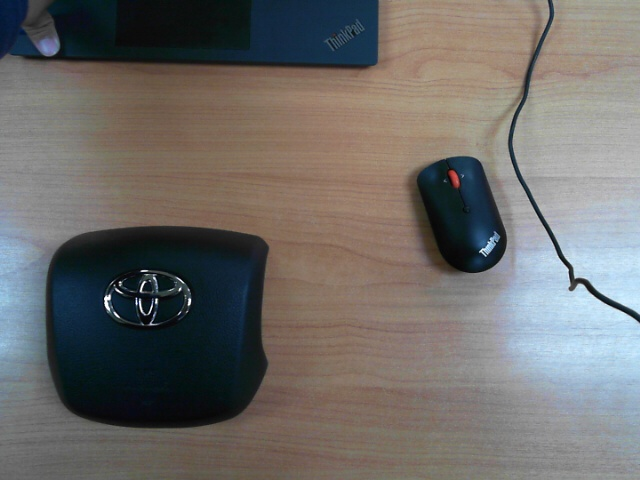AirbagV2: (44, 222, 269, 432)
